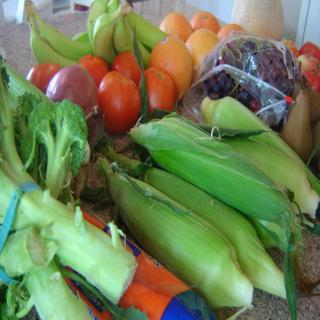tomato: (96, 66, 142, 132), (138, 65, 177, 116), (112, 50, 140, 94), (27, 61, 61, 96), (78, 53, 108, 87)
